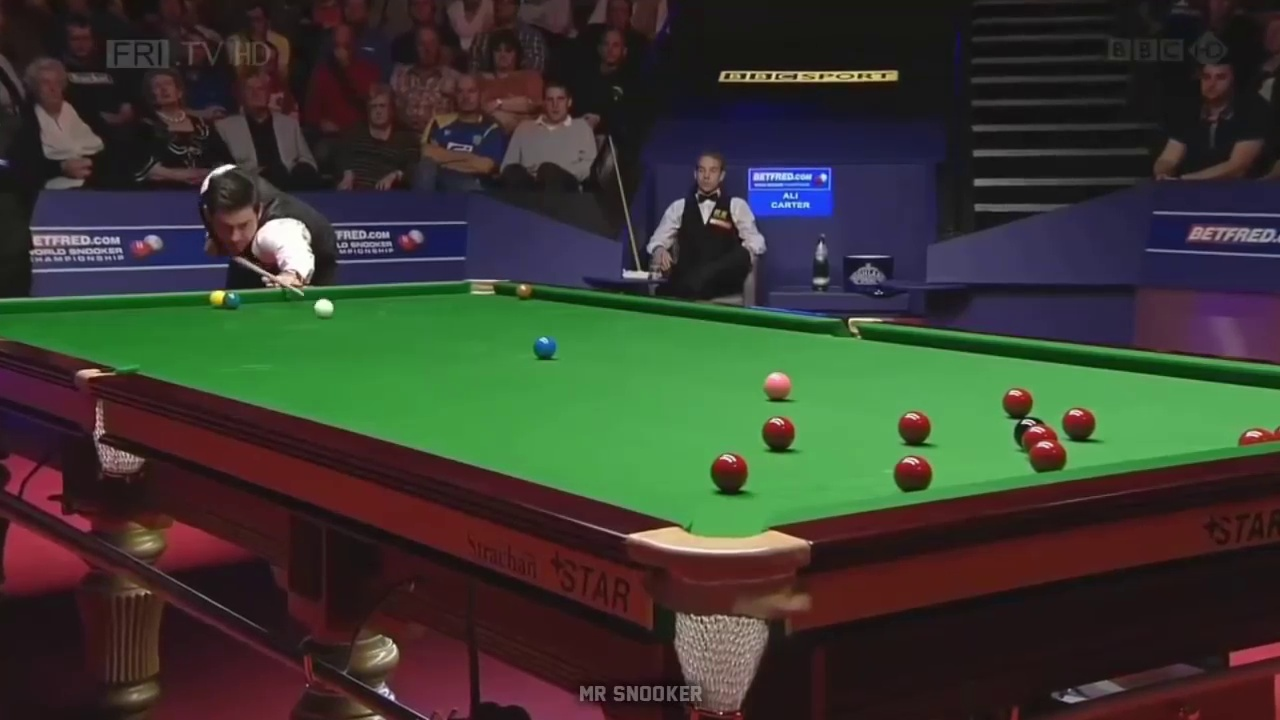blue: (534, 339, 556, 359)
green: (224, 289, 240, 308)
pink: (764, 373, 790, 399)
red: (711, 450, 749, 492), (894, 455, 933, 490), (760, 417, 795, 450), (1030, 440, 1067, 469), (1061, 408, 1094, 438), (897, 414, 932, 440), (1004, 389, 1033, 418)
white: (316, 301, 332, 320)
yellow: (208, 288, 223, 306)
